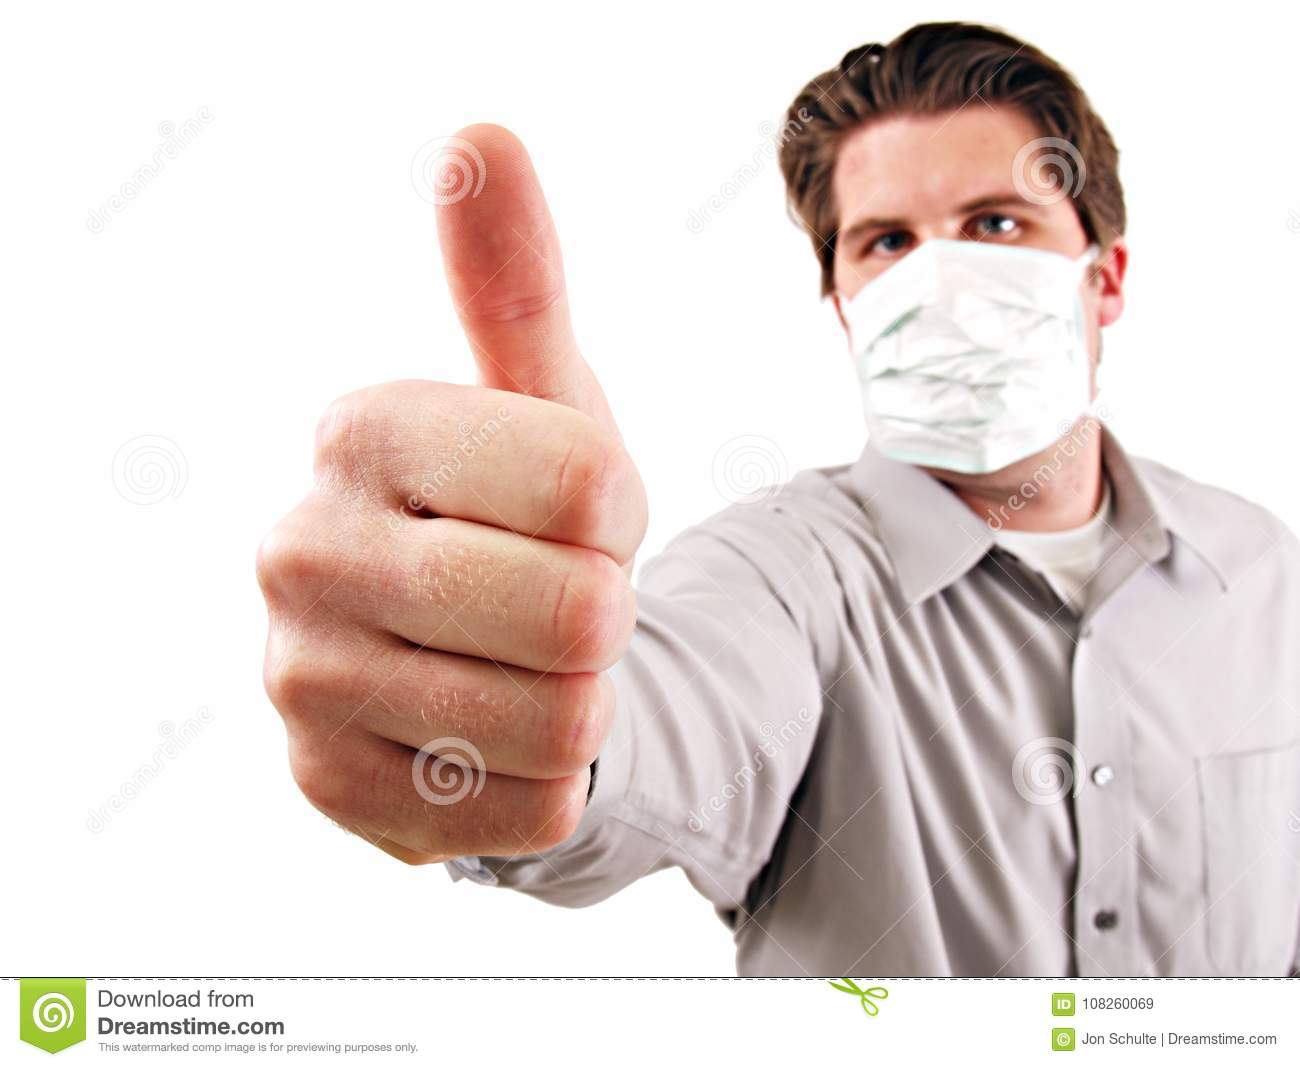mask: (847, 242, 1102, 481)
